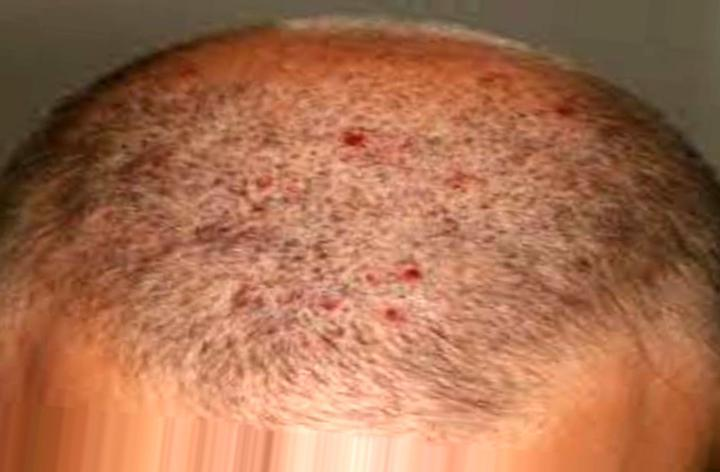Folliculitis: (221, 88, 560, 371)
